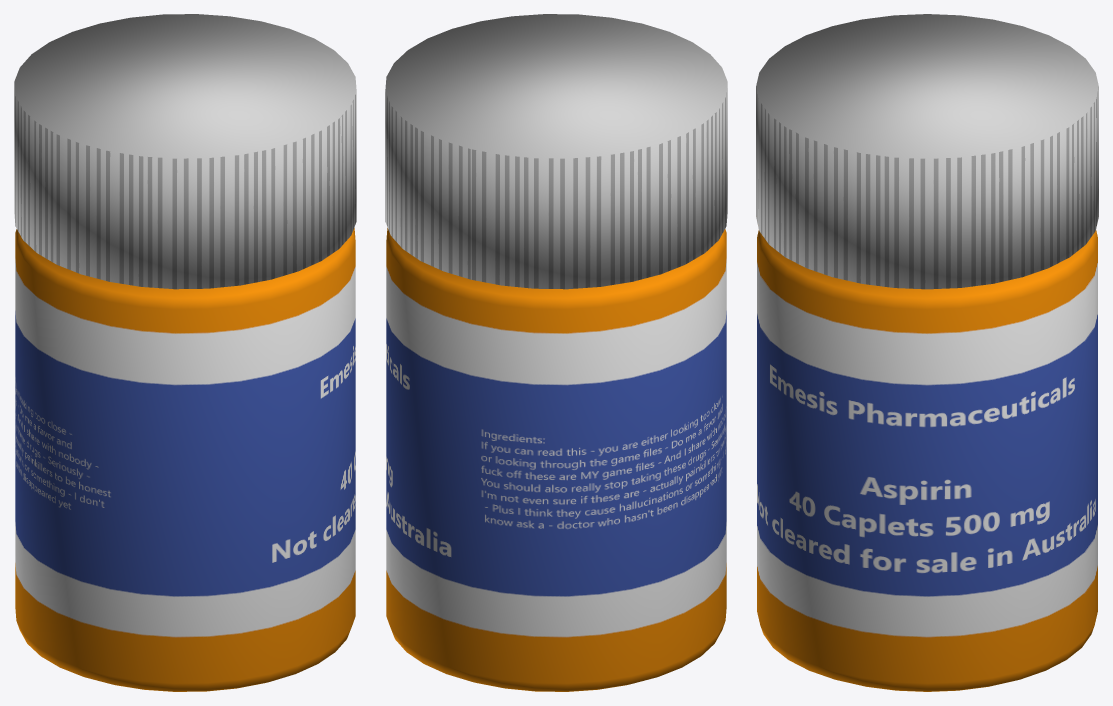
Rendered from Painkillers.obj.
3 renders of one model, left to right at view 1: azimuth 30°, elevation 25°; view 2: azimuth 150°, elevation 25°; view 3: azimuth 270°, elevation 25°, orthographic.
Visible parts, largest first — view 1: Cylinder; view 2: Cylinder; view 3: Cylinder.
Part boxes in pixels (bbox=[...]): Cylinder: bbox=[14, 14, 356, 691]; Cylinder: bbox=[385, 14, 727, 691]; Cylinder: bbox=[756, 14, 1098, 691].
Size of the model in its own units: 0.636 by 1.1 by 0.636.
